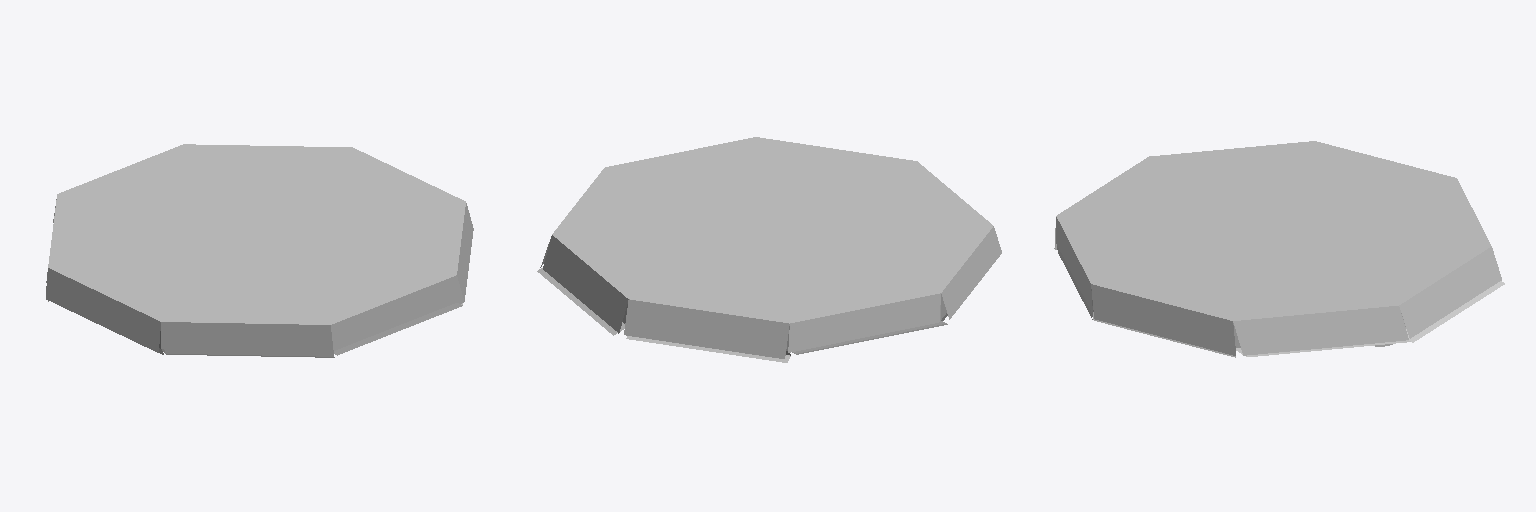
The model's file is pizza.obj.
The picture shows the model from 3 angles: view 1: azimuth 30°, elevation 25°; view 2: azimuth 150°, elevation 25°; view 3: azimuth 270°, elevation 25°; orthographic projection.
Visible parts, largest first — view 1: Circle; view 2: Circle; view 3: Circle.
Boxes of the visible parts, x1=… form: Circle: x1=46, y1=144, x2=473, y2=357; Circle: x1=537, y1=137, x2=1001, y2=362; Circle: x1=1054, y1=141, x2=1504, y2=357.
Size of the model in its own units: 1.84 by 0.2401 by 1.83.